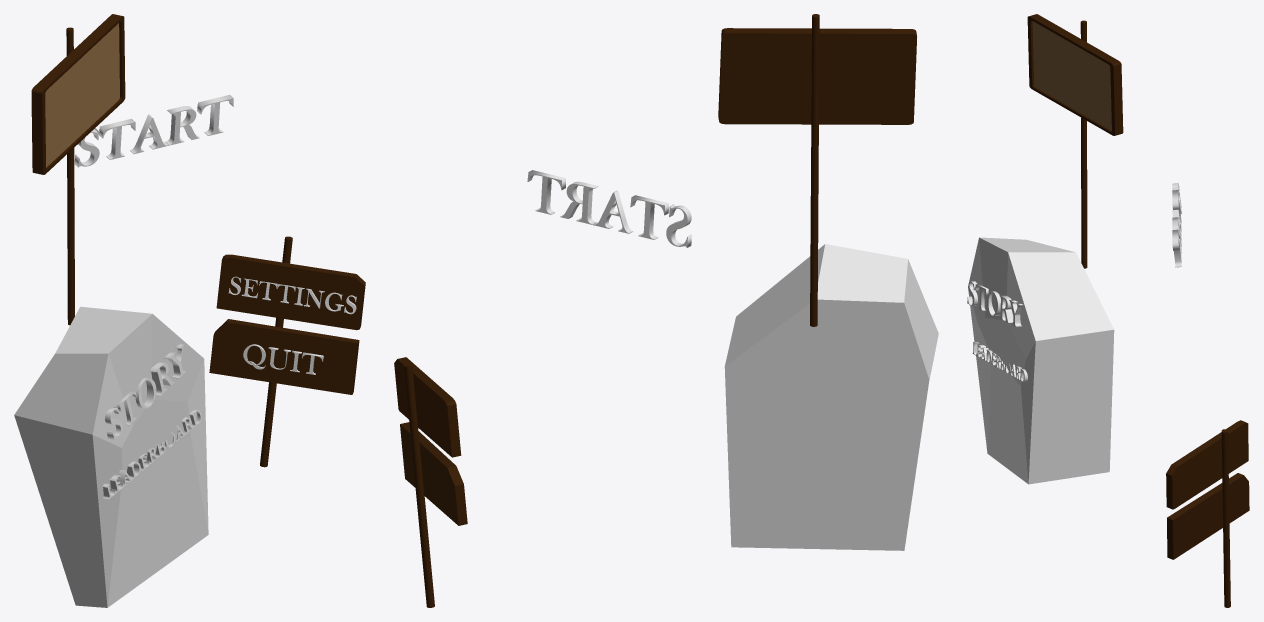
The model's file is MAINMENU.fbx.
3 views of the same model, side by side, from view 1: azimuth 30°, elevation 25°; view 2: azimuth 150°, elevation 25°; view 3: azimuth 270°, elevation 25° (orthographic). The views are drawn at different scales.
Visible parts, largest first — view 1: Cube, Cube.003, Cube.002, Cube.001, Text.003, Text, Cylinder.001, Text.002, Cylinder, Text.004, Text.001; view 2: Cube, Cube.003, Text.003, Cube.001, Cube.002, Cylinder.001, Cylinder; view 3: Cube, Cube.003, Cube.001, Cube.002, Cylinder, Text, Cylinder.001, Text.003, Text.002.
Part boxes in pixels (x1,y1,x2,y2): Cube: [14, 306, 208, 607]; Cube.003: [31, 14, 125, 174]; Cube.002: [209, 319, 359, 394]; Cube.001: [216, 254, 365, 330]; Text.003: [74, 94, 233, 167]; Text: [105, 343, 185, 439]; Cylinder.001: [66, 27, 74, 325]; Text.002: [102, 410, 201, 499]; Cylinder: [260, 236, 292, 467]; Text.004: [228, 276, 356, 314]; Text.001: [243, 344, 323, 374]; Cube: [724, 244, 938, 550]; Cube.003: [718, 28, 916, 124]; Text.003: [527, 170, 691, 247]; Cube.001: [394, 357, 461, 457]; Cube.002: [400, 422, 467, 525]; Cylinder.001: [810, 14, 819, 326]; Cylinder: [404, 363, 434, 607]; Cube: [968, 237, 1114, 484]; Cube.003: [1027, 14, 1123, 135]; Cube.001: [1166, 420, 1248, 509]; Cube.002: [1167, 473, 1249, 559]; Cylinder: [1221, 429, 1230, 607]; Text: [967, 281, 1022, 326]; Cylinder.001: [1080, 20, 1087, 268]; Text.003: [1172, 183, 1181, 267]; Text.002: [972, 342, 1027, 381].
Size of the model in its own units: 514 by 648 by 352.
